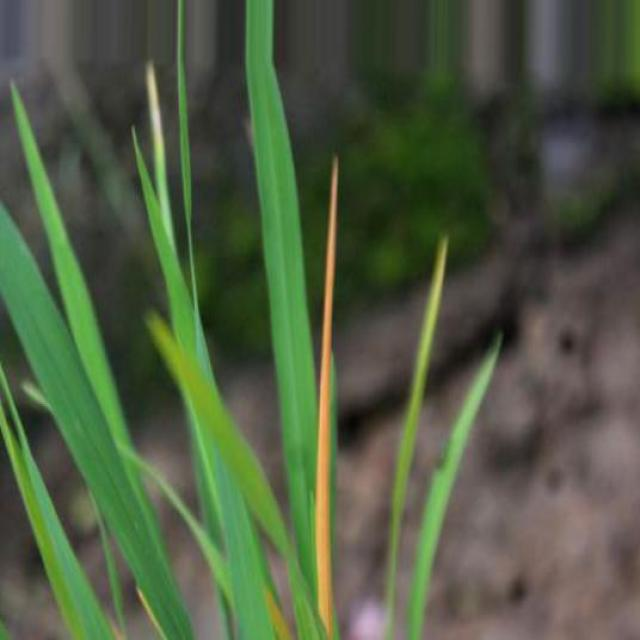Rice Tungro: (315, 153, 337, 639)
